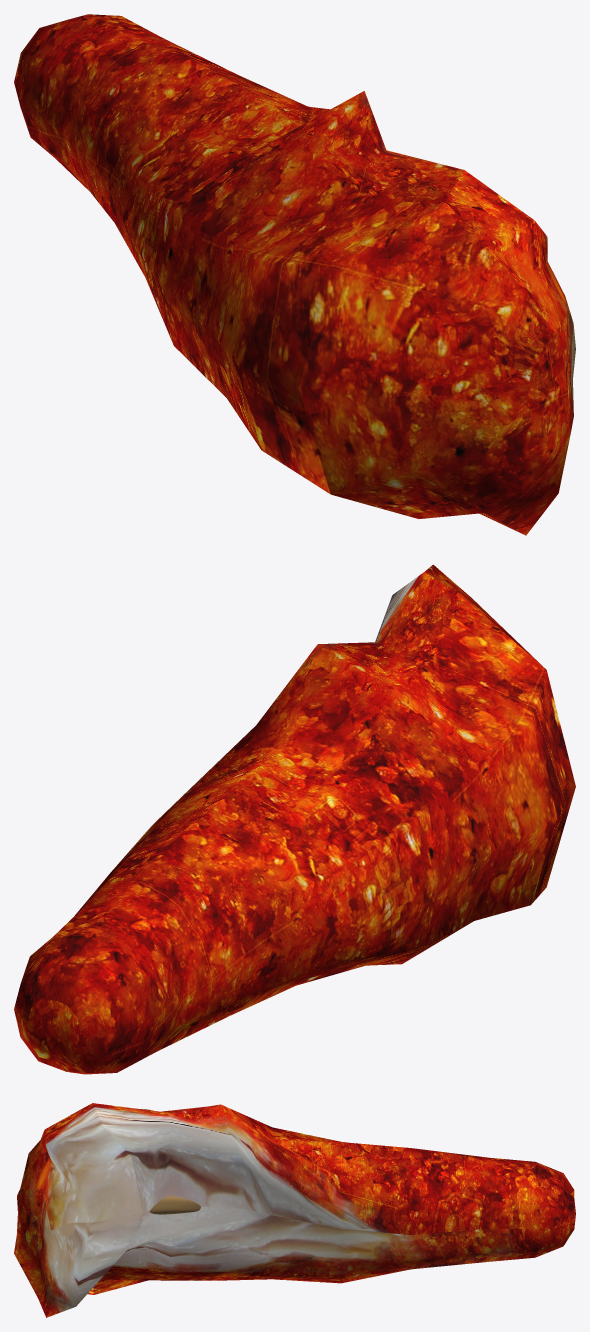
Rendered from friedChicken_Red_eat01.FBX.
3 views of the same model, one above another, from view 1: azimuth 30°, elevation 25°; view 2: azimuth 150°, elevation 25°; view 3: azimuth 270°, elevation 25° (orthographic). The views are drawn at different scales.
Parts seen in each view (by area): view 1: Chicken_red_eat01; view 2: Chicken_red_eat01; view 3: Chicken_red_eat01, Chicken_red_eat01_bone.
Part boxes in pixels (bbox=[...]): Chicken_red_eat01: bbox=[14, 14, 575, 535]; Chicken_red_eat01: bbox=[14, 564, 575, 1074]; Chicken_red_eat01: bbox=[14, 1103, 575, 1317]; Chicken_red_eat01_bone: bbox=[149, 1195, 200, 1214].
Bounding box in the file's own units: 11.17 × 34.28 × 14.02.
2 materials, 1 textured.
